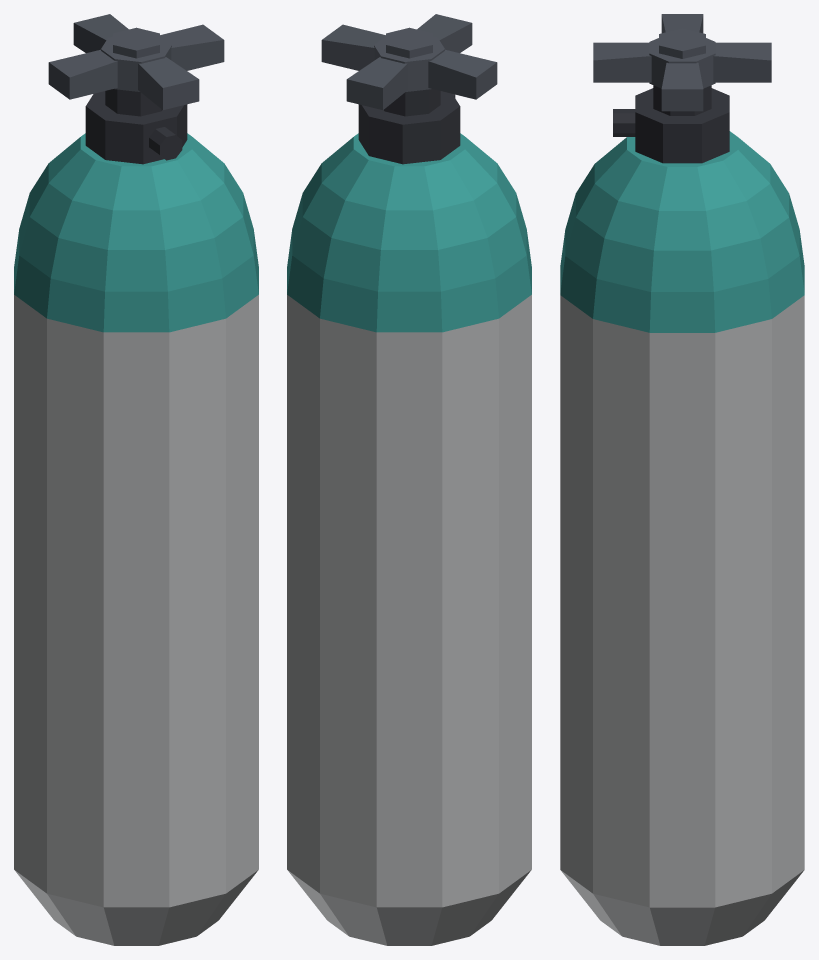
The model's file is oxygen-tank-223f7f.glb.
3 views of the same model, side by side, from view 1: azimuth 30°, elevation 25°; view 2: azimuth 150°, elevation 25°; view 3: azimuth 270°, elevation 25° (orthographic).
Visible parts, largest first — view 1: bottle-shell, valve-wheel-mesh; view 2: bottle-shell, valve-wheel-mesh; view 3: bottle-shell, valve-wheel-mesh.
Boxes of the visible parts, x1,y1,x2,y2 form: bottle-shell: (14, 89, 258, 945); valve-wheel-mesh: (48, 14, 224, 109); bottle-shell: (287, 89, 531, 945); valve-wheel-mesh: (321, 14, 497, 109); bottle-shell: (560, 85, 804, 945); valve-wheel-mesh: (593, 14, 771, 111).
Bounding box in the file's own units: 0.2801 × 1.1 × 0.2801.
